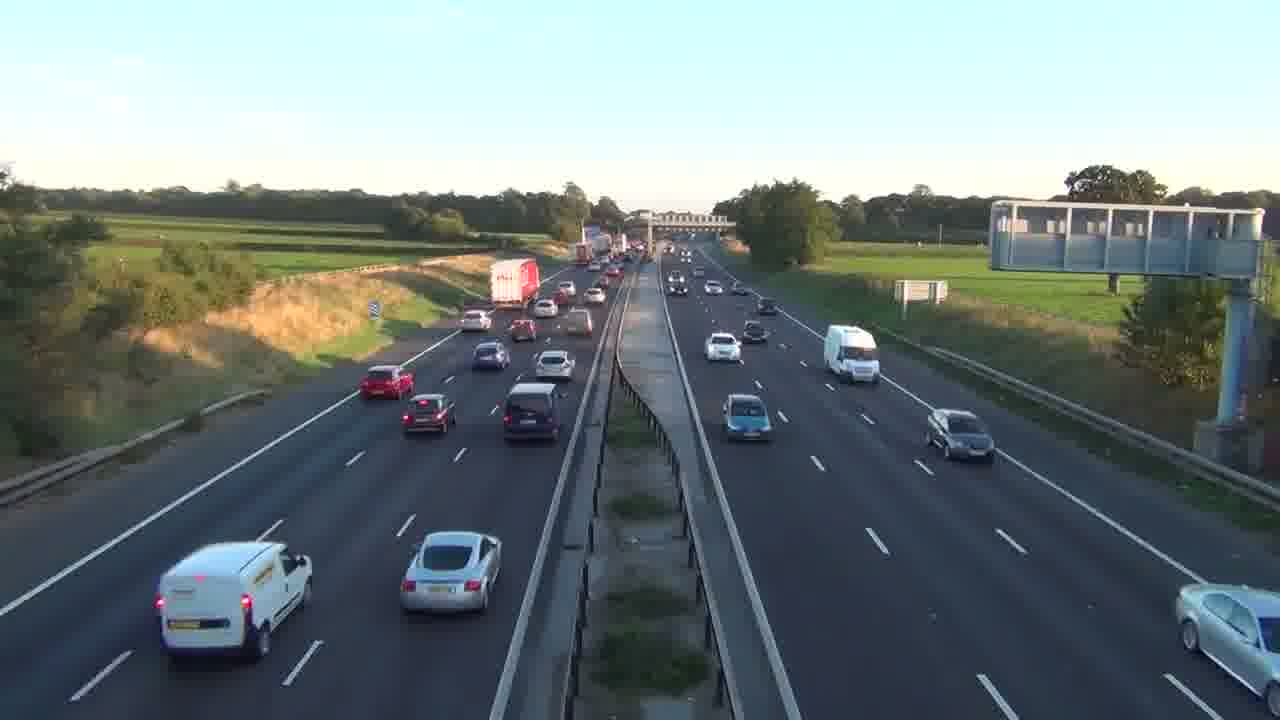car: (1175, 581, 1279, 716), (398, 529, 503, 615), (924, 407, 995, 463), (501, 380, 561, 443), (503, 380, 562, 443), (721, 393, 773, 442), (401, 392, 454, 436), (471, 339, 510, 372), (705, 332, 744, 365), (533, 349, 574, 380), (742, 318, 769, 344), (510, 318, 537, 342)
truck: (152, 539, 314, 662), (823, 324, 881, 383), (490, 257, 540, 307)
